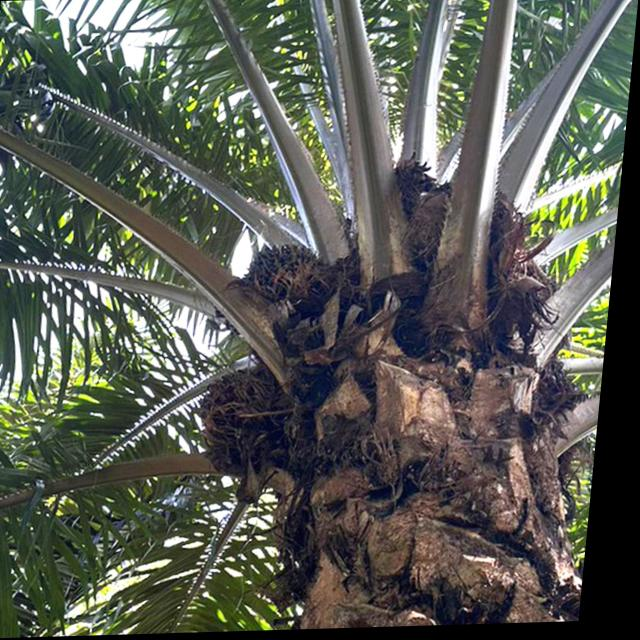unripe: (173, 348, 334, 497), (230, 230, 347, 323)
